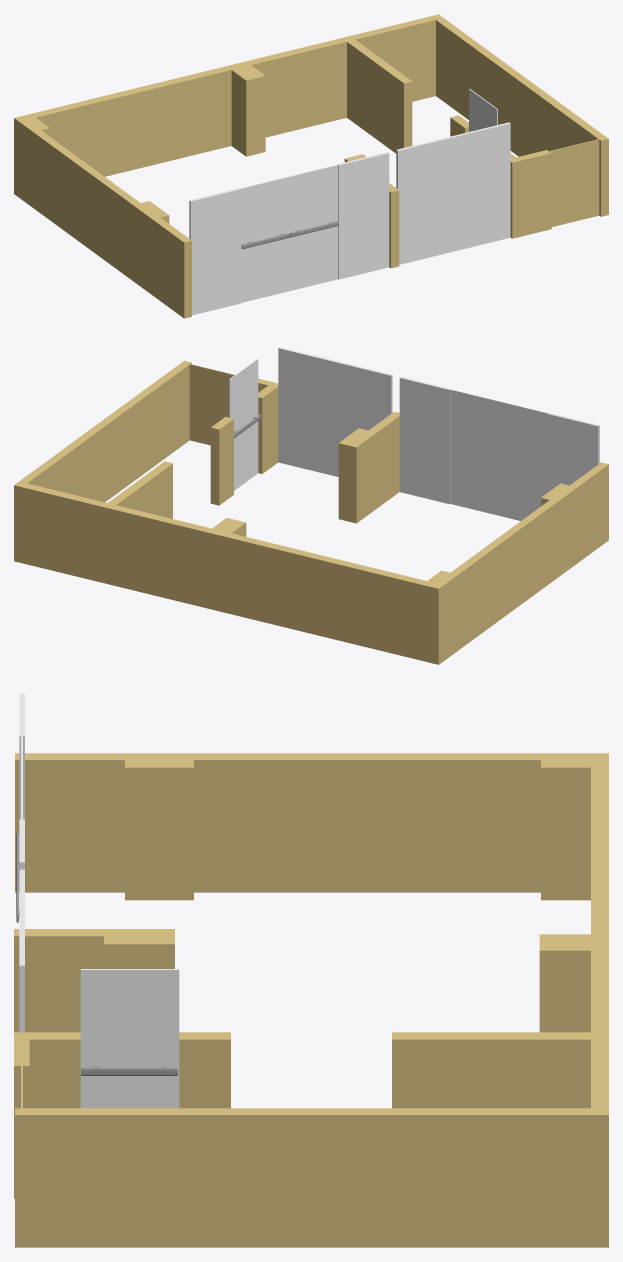
Rendered from dukkan_ofis.fbx.
3 renders of one model, top to bottom at view 1: azimuth 30°, elevation 25°; view 2: azimuth 150°, elevation 25°; view 3: azimuth 270°, elevation 25°, orthographic. The views are drawn at different scales.
Parts seen in each view (by area): view 1: wall, glass, double_glass, right_door, left_door, single_wall, single_door; view 2: wall, glass, double_glass, right_door, left_door, single_door, single_wall; view 3: wall, single_door, glass, double_glass, single_handle_inside.
Boxes of the visible parts, x1,y1,x2,y2 form: wall: [14, 14, 608, 318]; glass: [396, 122, 510, 264]; double_glass: [189, 152, 389, 315]; right_door: [289, 164, 338, 290]; left_door: [240, 176, 289, 302]; single_wall: [549, 139, 599, 226]; single_door: [469, 88, 497, 131]; wall: [14, 360, 608, 664]; glass: [278, 347, 392, 476]; double_glass: [399, 376, 599, 504]; right_door: [450, 389, 499, 515]; left_door: [499, 401, 548, 520]; single_door: [229, 358, 258, 490]; single_wall: [189, 364, 234, 445]; wall: [14, 753, 608, 1247]; single_door: [80, 969, 179, 1108]; glass: [19, 869, 24, 1032]; double_glass: [19, 693, 24, 869]; single_handle_inside: [81, 1066, 177, 1075].
Size of the model in its own units: 1166 by 300 by 811.
